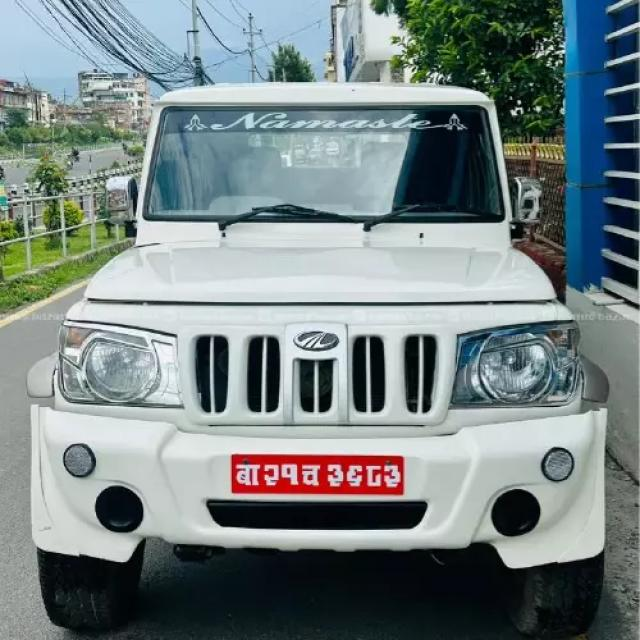License-plate: (223, 450, 408, 494)
